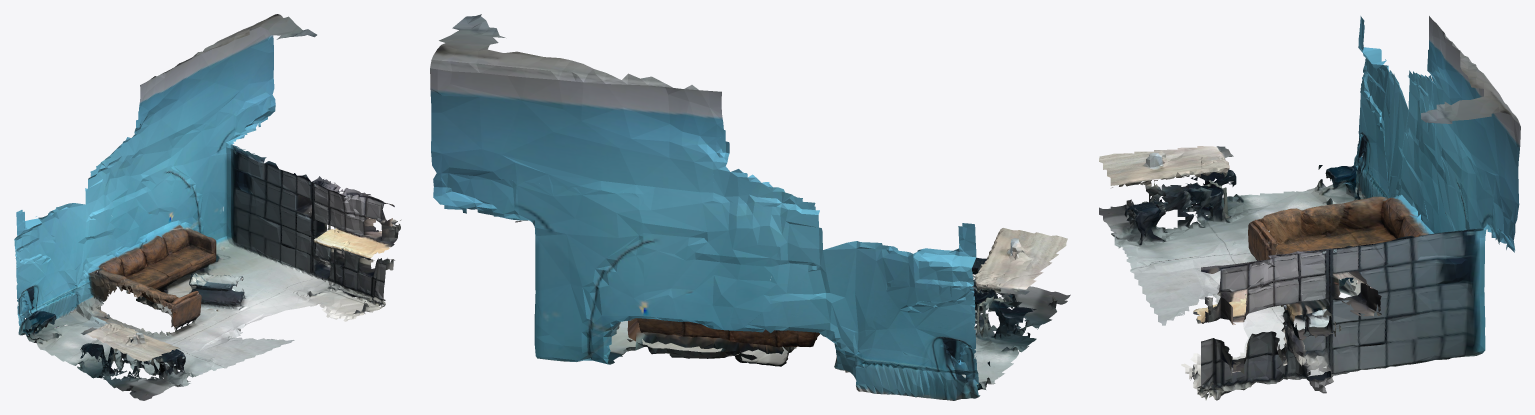
3 views of the same model, side by side, from view 1: azimuth 30°, elevation 25°; view 2: azimuth 150°, elevation 25°; view 3: azimuth 270°, elevation 25° (orthographic). The views are drawn at different scales.
Parts seen in each view (by area): view 1: mesh; view 2: mesh; view 3: mesh.
Boxes of the visible parts, box(x1,y1,x2,y2) form: mesh: box(14, 14, 401, 400); mesh: box(430, 14, 1070, 400); mesh: box(1099, 16, 1520, 400).
Size of the model in its own units: 6.8 by 4.12 by 5.37.
Materials: 1 (1 with a texture image).
